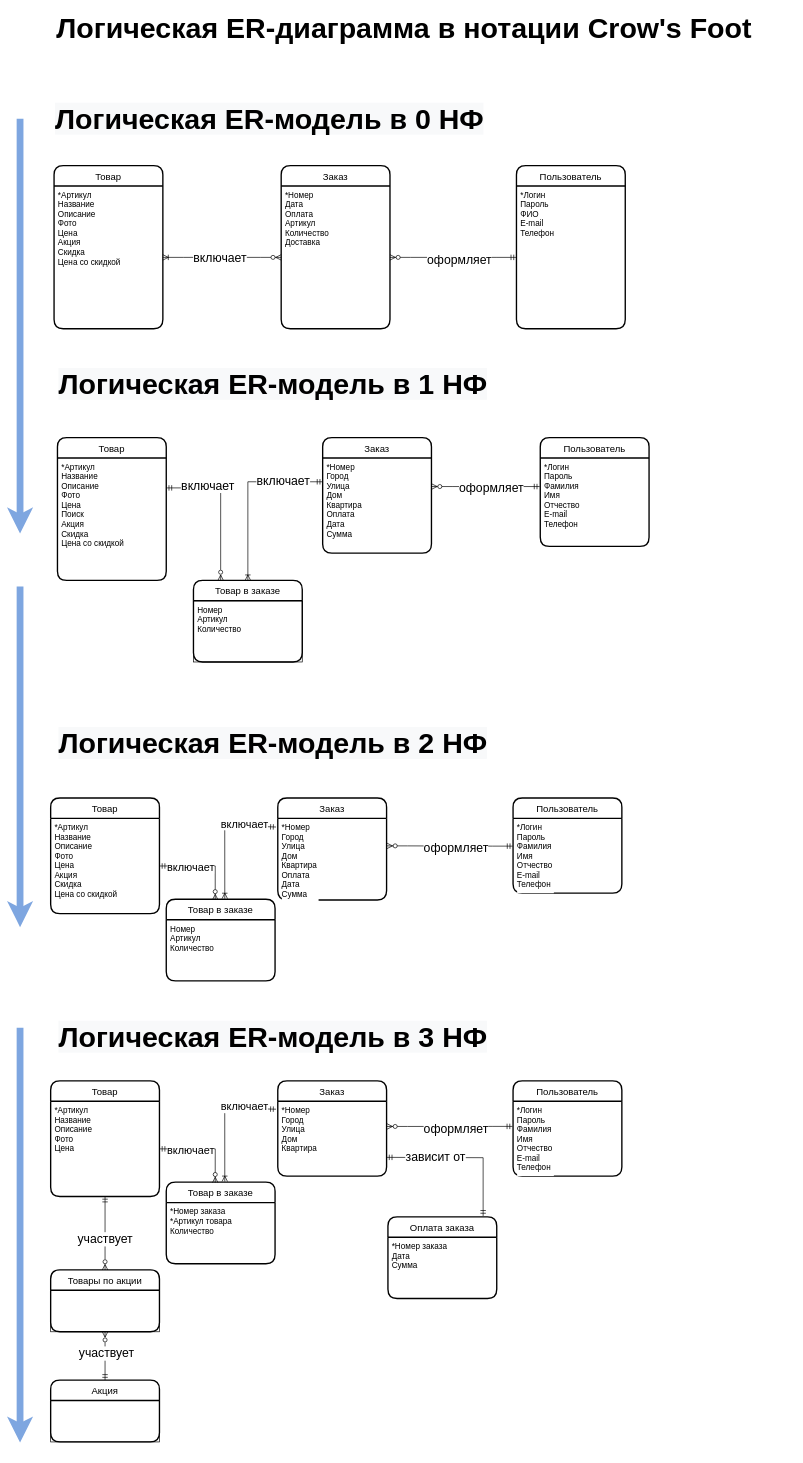
The diagram is 803 pixels wide and 1463 high, and some of its shapes have lost their labels. Each missing label, with the centre of its shape:
"*Номер акции *Артикул товара Скидка" goes at (104,1311).
"*Номер Название" goes at (104,1421).
